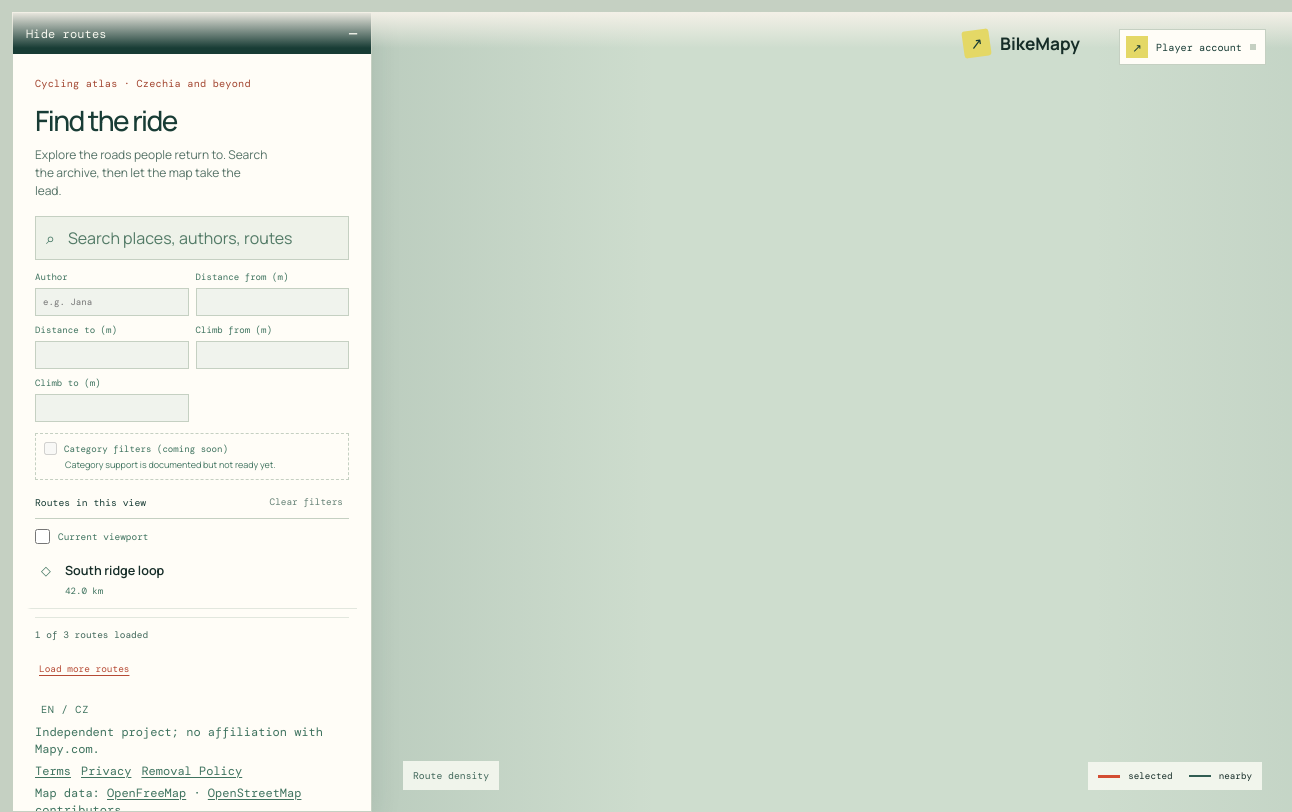
Scenario: BikeMapy route discovery › stops a later page when its next link forms a cycle
Click the button "Load more routes".
click(84, 669)  # box [35,649,134,689]
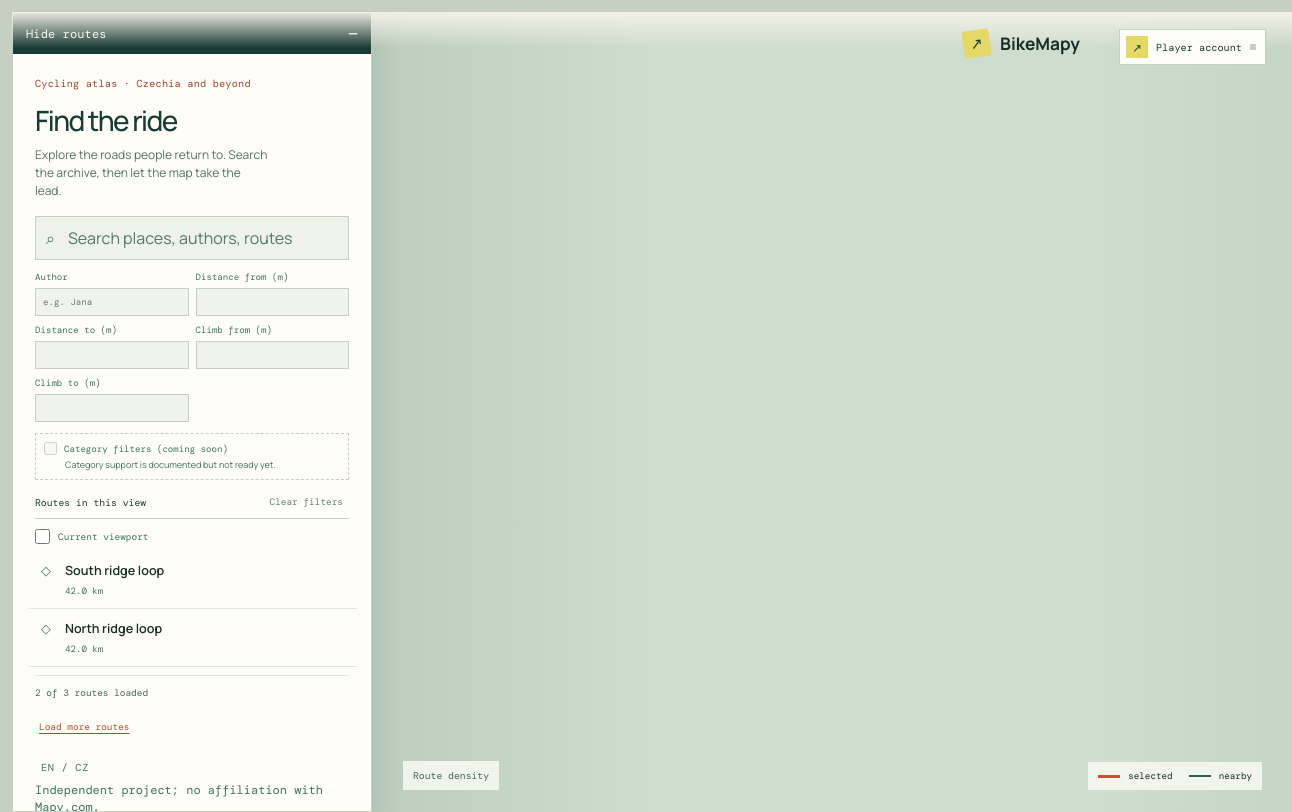
Click the button "Load more routes".
click(84, 727)  # box [35,707,134,747]
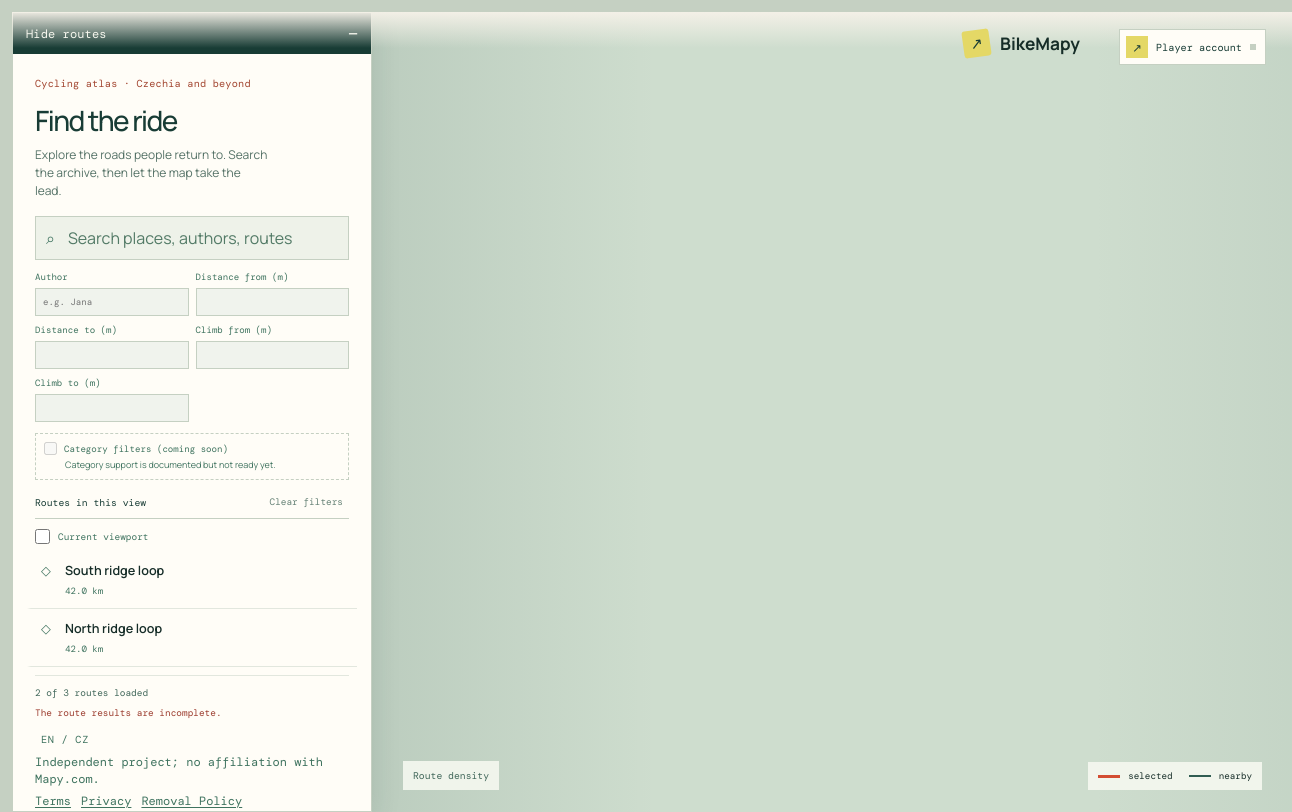
Check: the button "◇ North ridge loop 42.0 km" is shown, box [27,609,357,667]
Check: the text "The route results are incomplete." is shown, box [35,707,222,719]
